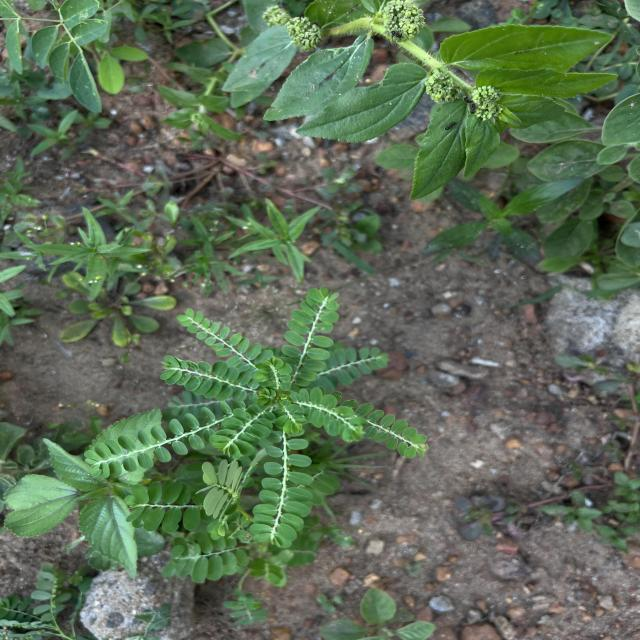Phyllanthus niruri: (83, 406, 222, 482), (248, 431, 316, 550), (176, 306, 272, 376), (278, 284, 340, 388), (158, 353, 260, 403), (288, 387, 366, 447), (208, 406, 272, 461)
